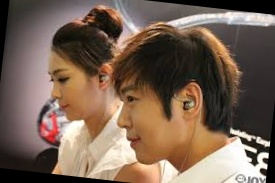earphone: (178, 81, 204, 121), (97, 63, 115, 91)
